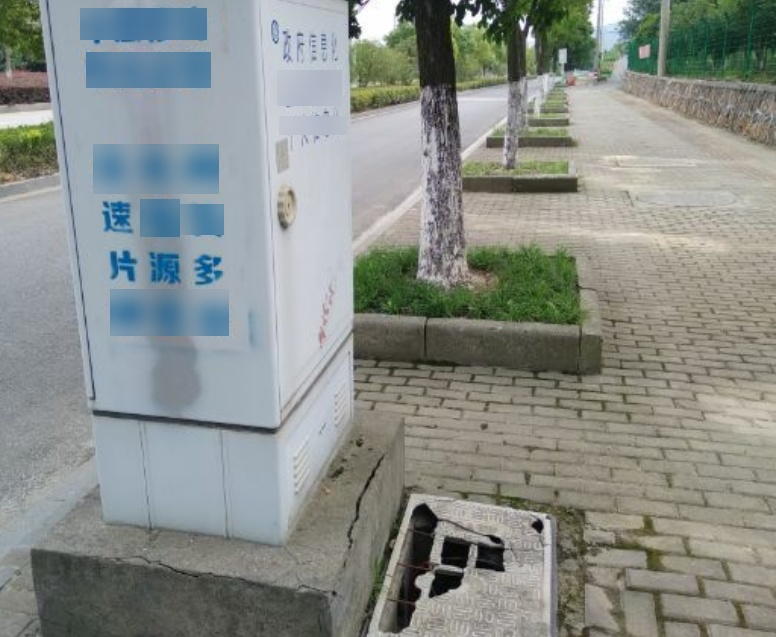broke: (357, 489, 565, 637)
